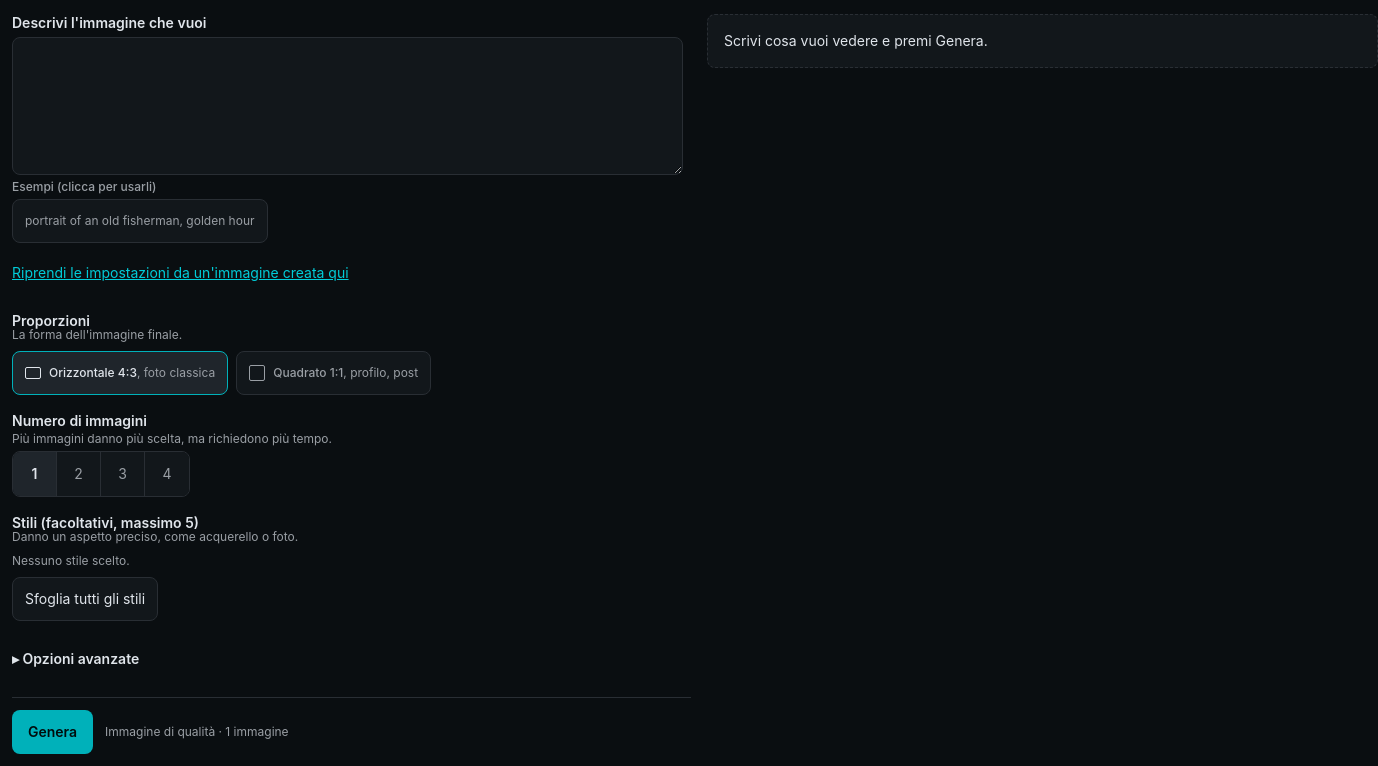
CreatePage validation and task list › keeps the result code inside the advanced options (C12)
(page scrolled)
Expected: the button "Genera" is shown, [12, 710, 93, 754]
Expected: the field labelled "Codice del risultato" is not shown
Click the button "▸ Opzioni avanzate" at point(79, 658), box [12, 637, 683, 681]
(page scrolled)
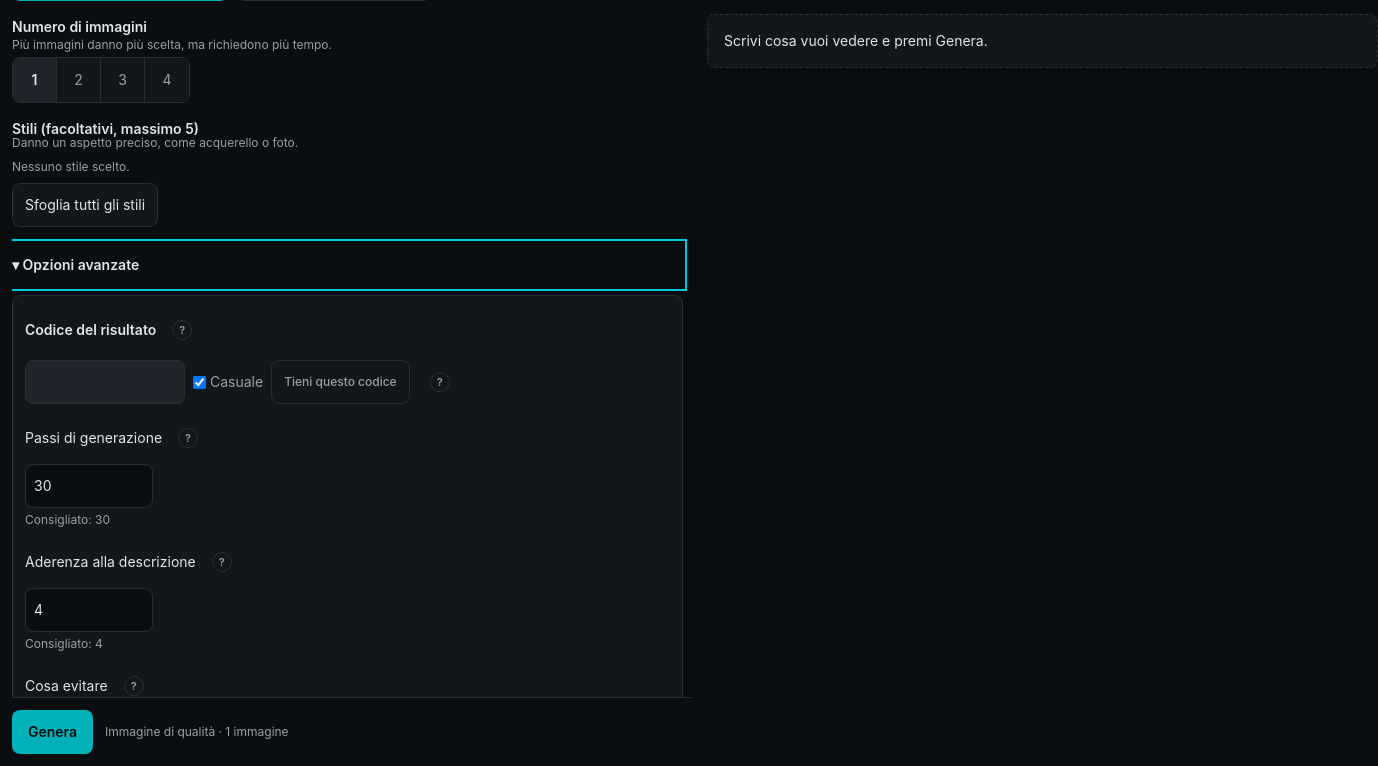
Expected: the number field labelled "Codice del risultato" is shown, [25, 360, 185, 404]
